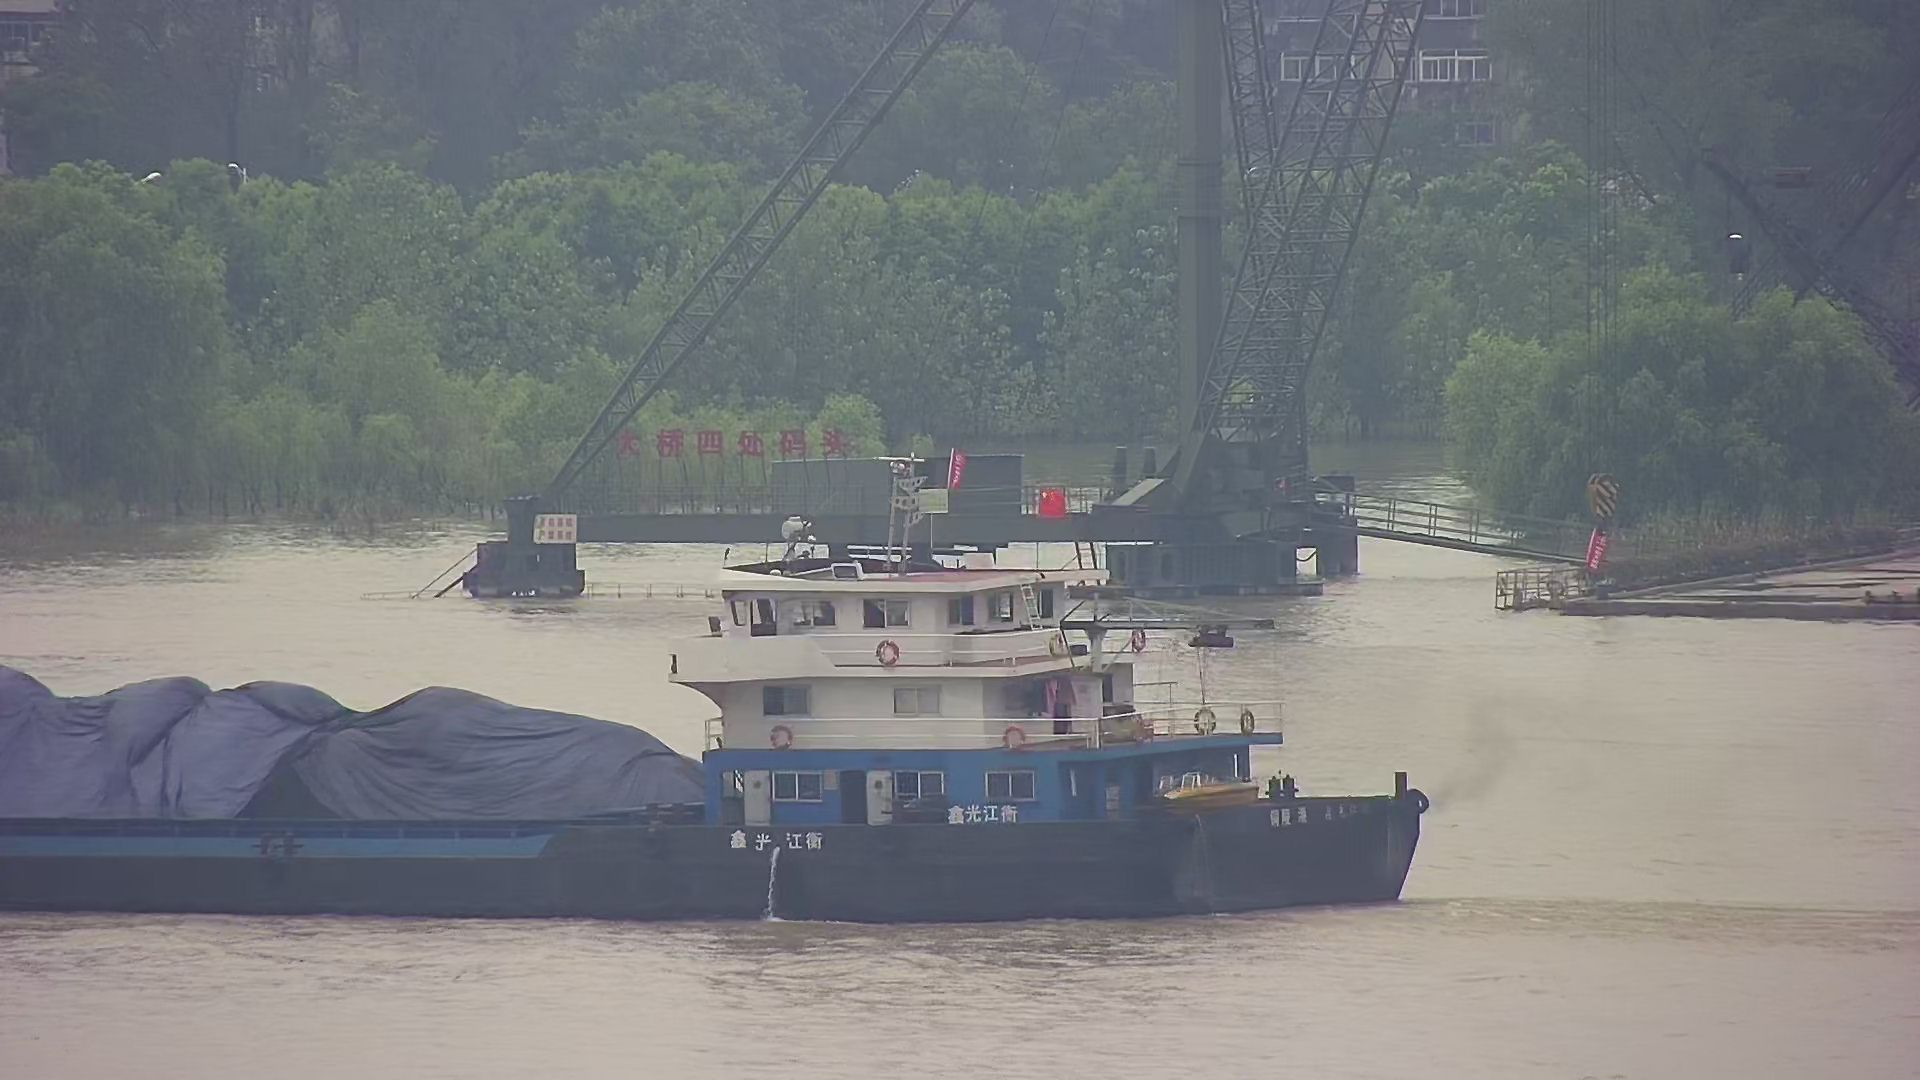platform: (404, 1, 1406, 615)
ship: (1, 436, 1437, 928)
